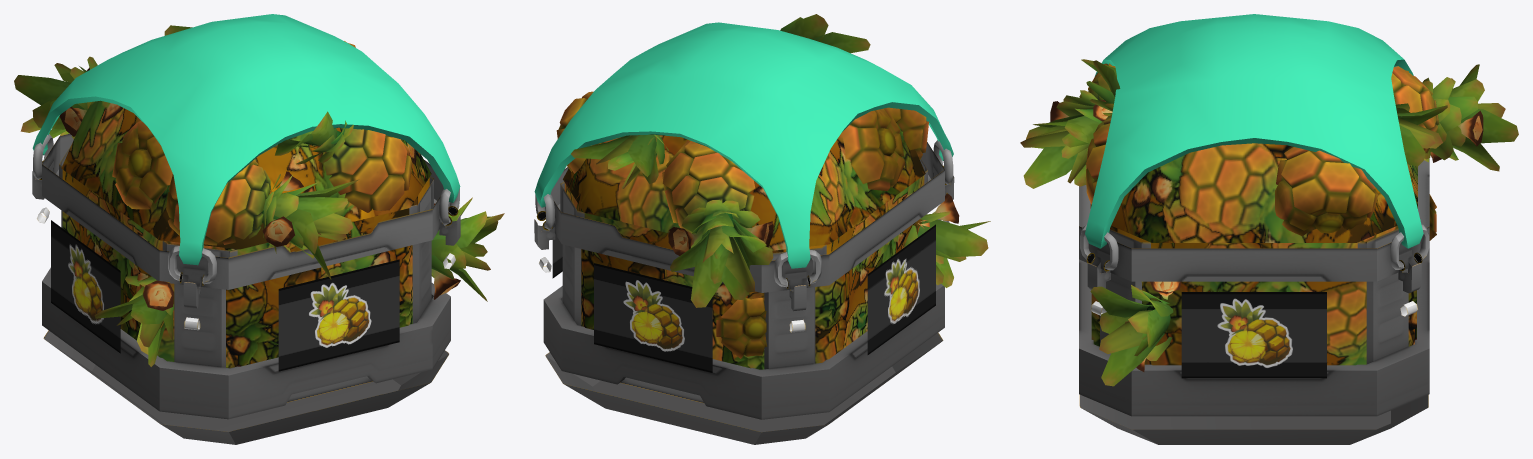
Rendered from obj_containers_pineapplecrate.fbx.
3 views of the same model, side by side, from view 1: azimuth 30°, elevation 25°; view 2: azimuth 150°, elevation 25°; view 3: azimuth 270°, elevation 25° (orthographic). The views are drawn at different scales.
Parts seen in each view (by area): view 1: obj_containers_pineapplecrate; view 2: obj_containers_pineapplecrate; view 3: obj_containers_pineapplecrate.
Part boxes in pixels (left/top/right/bottom): obj_containers_pineapplecrate: left=14, top=14, right=504, bottom=444; obj_containers_pineapplecrate: left=534, top=14, right=990, bottom=444; obj_containers_pineapplecrate: left=1020, top=14, right=1518, bottom=444.
Bounding box in the file's own units: 9.64 × 7.82 × 9.96.
